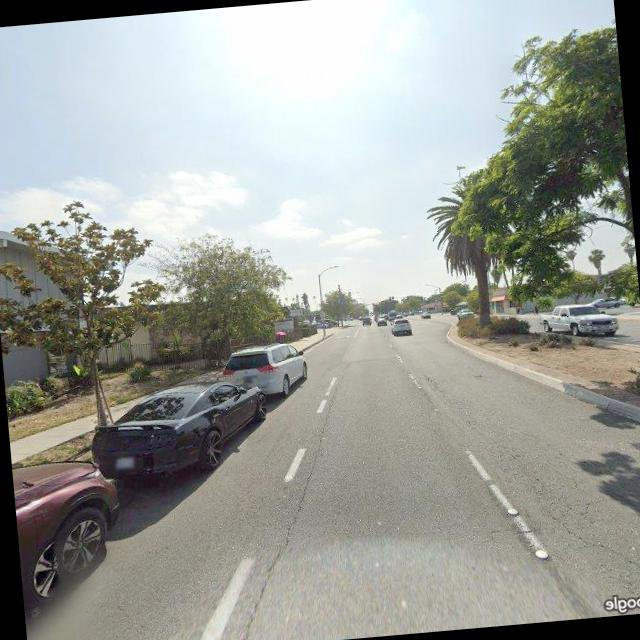crack: (226, 388, 355, 638), (541, 494, 640, 585)
